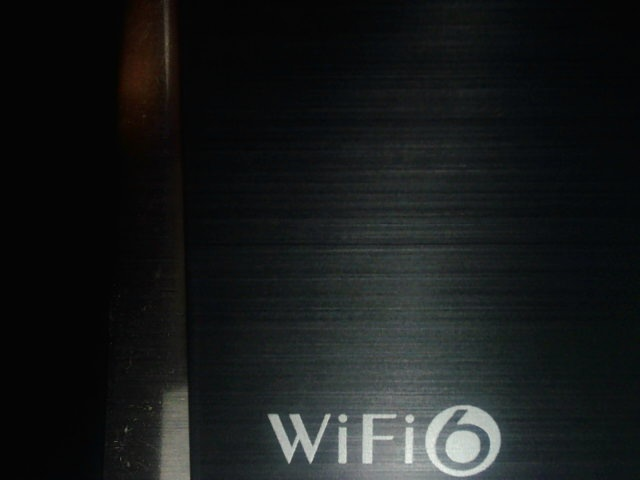AK_ZTEWIFI6Black: (252, 392, 509, 479)
